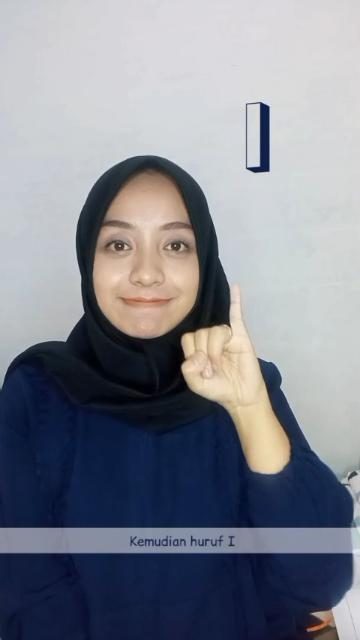I: (181, 279, 267, 406)
